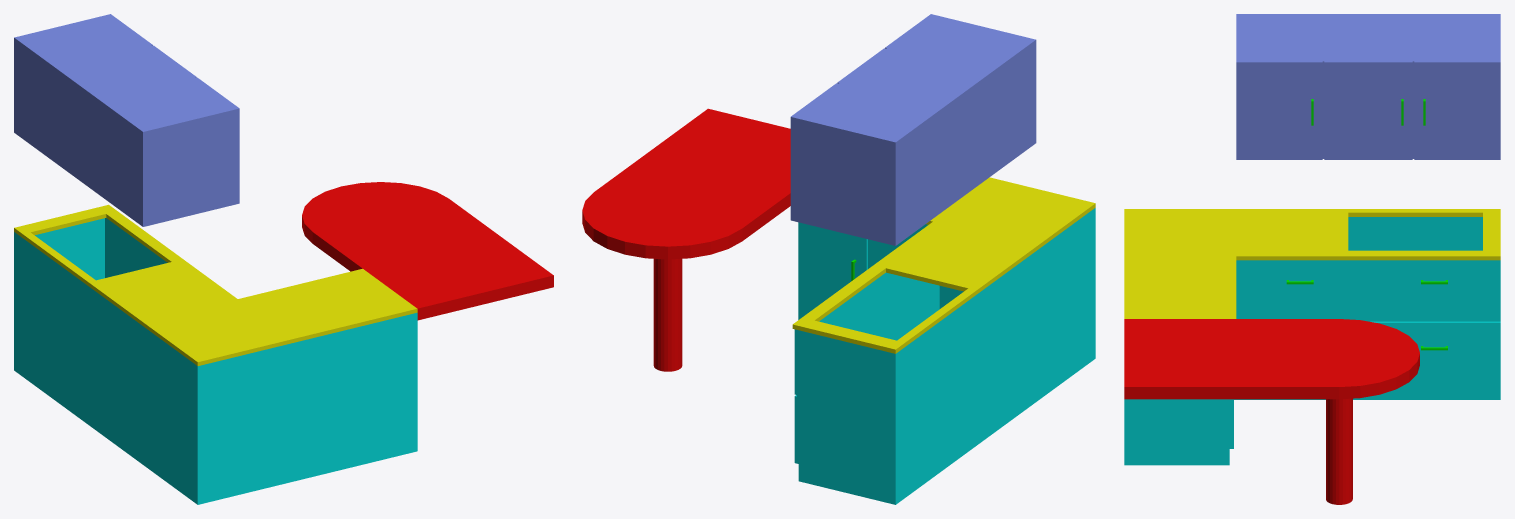
The model's file is OM_1BHK_DM_Kitchen_Cabinate.fbx.
3 renders of one model, left to right at view 1: azimuth 30°, elevation 25°; view 2: azimuth 150°, elevation 25°; view 3: azimuth 270°, elevation 25°, orthographic. The views are drawn at different scales.
Visible parts, largest first — view 1: OM_1BHK_Kitchen_Cabinates_01_B_Main_cage, OM_1BHK_Kitchen_Cabinates_01_T_Main_cage, OM_1BHK_Kitchen_Cabinates_01_B_Topmarble, OM_1BHK_Kitchen_Dining_Table_01_Top, OM_1BHK_Kitchen_Cabinates_01_B_Doors; view 2: OM_1BHK_Kitchen_Cabinates_01_B_Main_cage, OM_1BHK_Kitchen_Cabinates_01_T_Main_cage, OM_1BHK_Kitchen_Dining_Table_01_Top, OM_1BHK_Kitchen_Cabinates_01_B_Topmarble, OM_1BHK_Kitchen_Cabinates_01_B_Doors, OM_1BHK_Kitchen_Dining_Table_01_Leg, OM_1BHK_Kitchen_Cabinates_01_T_Doors; view 3: OM_1BHK_Kitchen_Cabinates_01_T_Doors, OM_1BHK_Kitchen_Dining_Table_01_Top, OM_1BHK_Kitchen_Cabinates_01_B_Topmarble, OM_1BHK_Kitchen_Cabinates_01_B_Doors, OM_1BHK_Kitchen_Cabinates_01_B_Main_cage, OM_1BHK_Kitchen_Cabinates_01_T_Main_cage, OM_1BHK_Kitchen_Dining_Table_01_Leg.
Boxes of the visible parts, x1,y1,x2,y2 form: OM_1BHK_Kitchen_Cabinates_01_B_Main_cage: [14, 218, 417, 504]; OM_1BHK_Kitchen_Cabinates_01_T_Main_cage: [14, 14, 237, 226]; OM_1BHK_Kitchen_Cabinates_01_B_Topmarble: [14, 204, 417, 365]; OM_1BHK_Kitchen_Dining_Table_01_Top: [302, 182, 553, 320]; OM_1BHK_Kitchen_Cabinates_01_B_Doors: [105, 218, 167, 277]; OM_1BHK_Kitchen_Cabinates_01_B_Main_cage: [796, 208, 1095, 504]; OM_1BHK_Kitchen_Cabinates_01_T_Main_cage: [792, 14, 1036, 245]; OM_1BHK_Kitchen_Dining_Table_01_Top: [582, 108, 790, 259]; OM_1BHK_Kitchen_Cabinates_01_B_Topmarble: [792, 177, 1095, 353]; OM_1BHK_Kitchen_Cabinates_01_B_Doors: [794, 222, 939, 463]; OM_1BHK_Kitchen_Dining_Table_01_Leg: [653, 259, 682, 371]; OM_1BHK_Kitchen_Cabinates_01_T_Doors: [790, 14, 932, 220]; OM_1BHK_Kitchen_Cabinates_01_T_Doors: [1236, 61, 1500, 159]; OM_1BHK_Kitchen_Dining_Table_01_Top: [1124, 319, 1419, 399]; OM_1BHK_Kitchen_Cabinates_01_B_Topmarble: [1124, 209, 1500, 318]; OM_1BHK_Kitchen_Cabinates_01_B_Doors: [1231, 260, 1500, 448]; OM_1BHK_Kitchen_Cabinates_01_B_Main_cage: [1124, 217, 1500, 465]; OM_1BHK_Kitchen_Cabinates_01_T_Main_cage: [1236, 14, 1500, 158]; OM_1BHK_Kitchen_Dining_Table_01_Leg: [1326, 398, 1352, 504].
Bounding box in the file's own units: 7.83 × 7 × 7.
